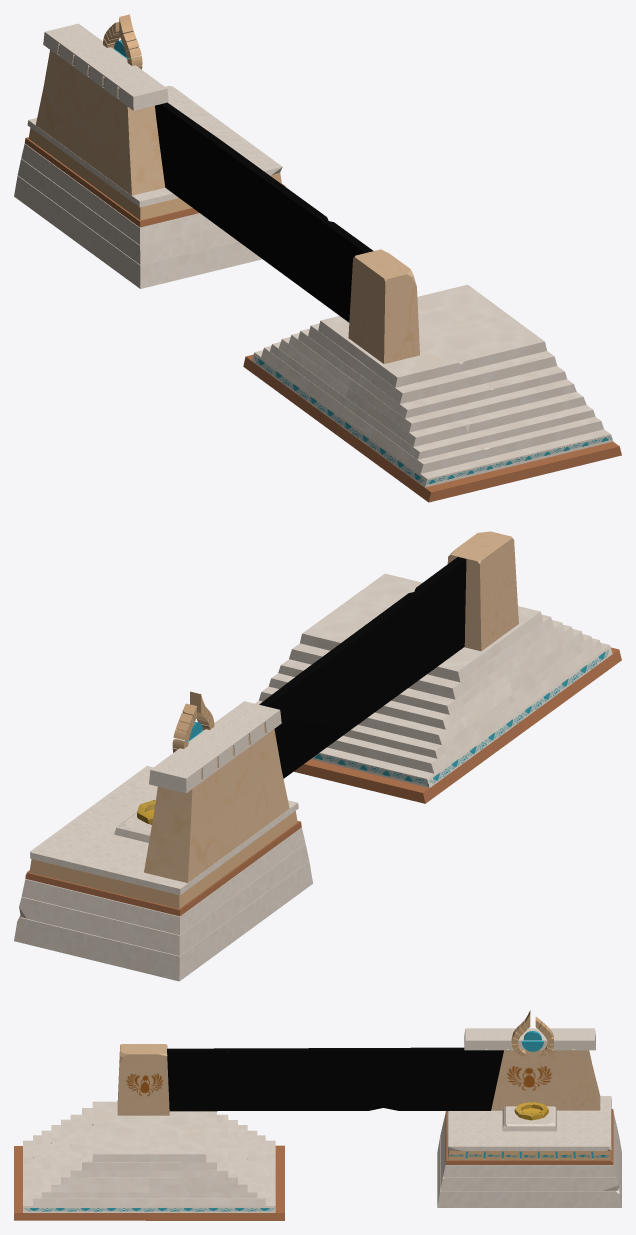
File: pilleken (1).fbx
The picture shows the model from 3 angles, top to bottom: view 1: azimuth 30°, elevation 25°; view 2: azimuth 150°, elevation 25°; view 3: azimuth 270°, elevation 25°; orthographic projection. The views are drawn at different scales.
Parts seen in each view (by area): view 1: Cube.017, Cube.036; view 2: Cube.017, Cube.036; view 3: Cube.017, Cube.036.
Boxes of the visible parts, x1,y1,x2,y2 form: Cube.017: (14, 14, 621, 502); Cube.036: (155, 102, 373, 322); Cube.017: (14, 531, 621, 981); Cube.036: (259, 557, 466, 778); Cube.017: (14, 1010, 621, 1220); Cube.036: (167, 1047, 503, 1111).
Bounding box in the file's own units: 4609 × 4915 × 17185.
